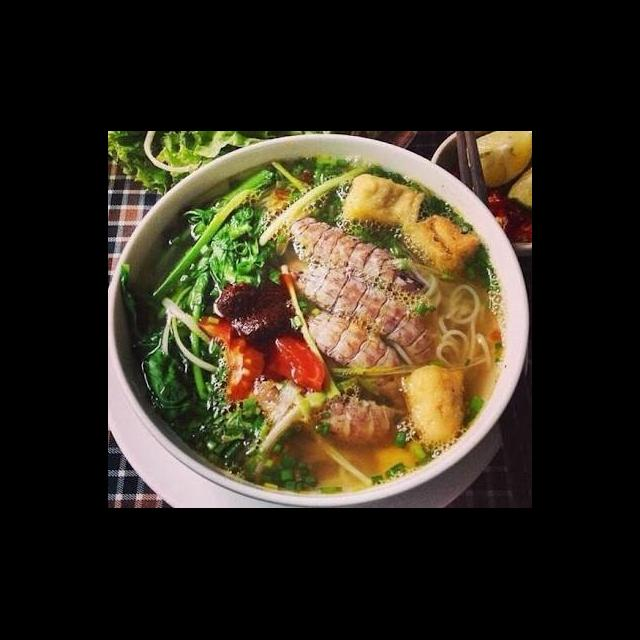bun: (409, 258, 496, 376)
dau hu: (395, 360, 470, 454), (335, 170, 429, 238), (398, 212, 484, 278)
tom tit: (281, 253, 439, 364), (289, 304, 413, 412), (279, 212, 428, 298), (302, 389, 413, 448)
